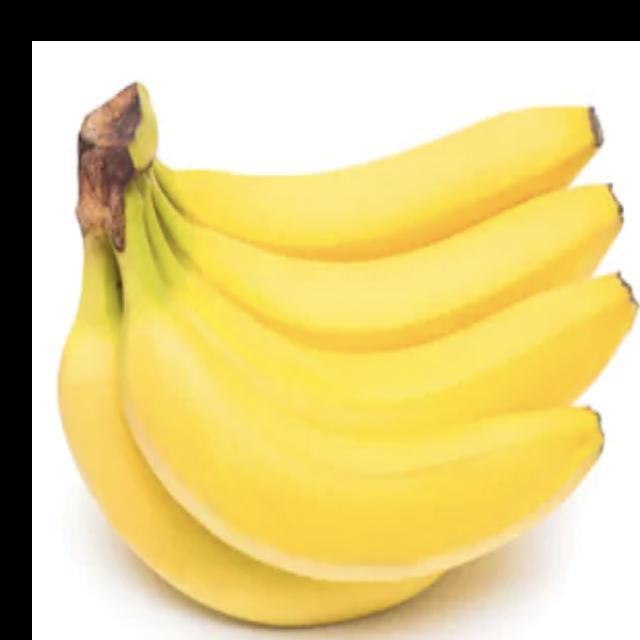Banana: (57, 80, 639, 628)
